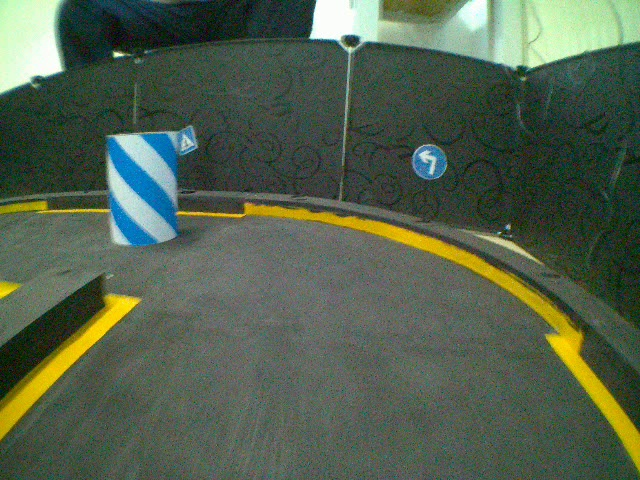bucket: (101, 131, 183, 248)
